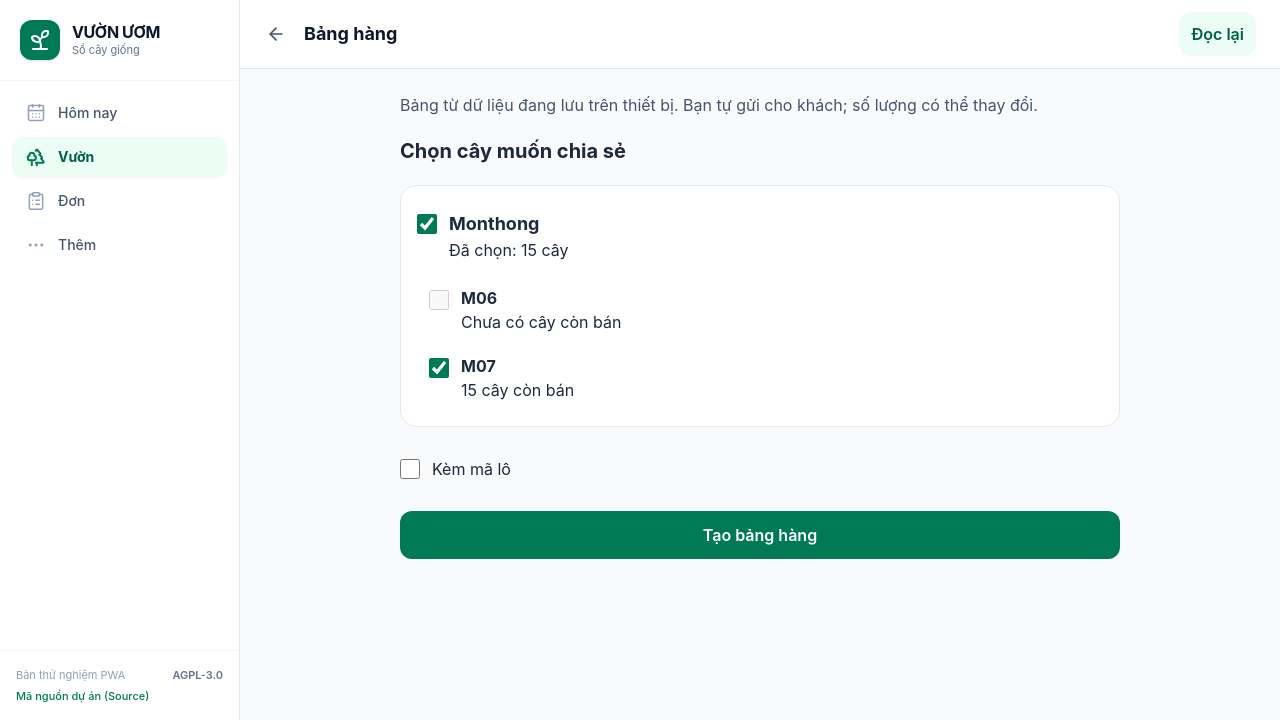
B1 selection and share (real Dexie) › B115 rejects a selected batch that becomes deleted, then reconciles without selecting a replacement
Check: the checkbox named "Chọn lô M07" is shown, box [429,358,449,378]
Click the button "Tạo bảng hàng": point(760, 535) [400,511,1120,559]
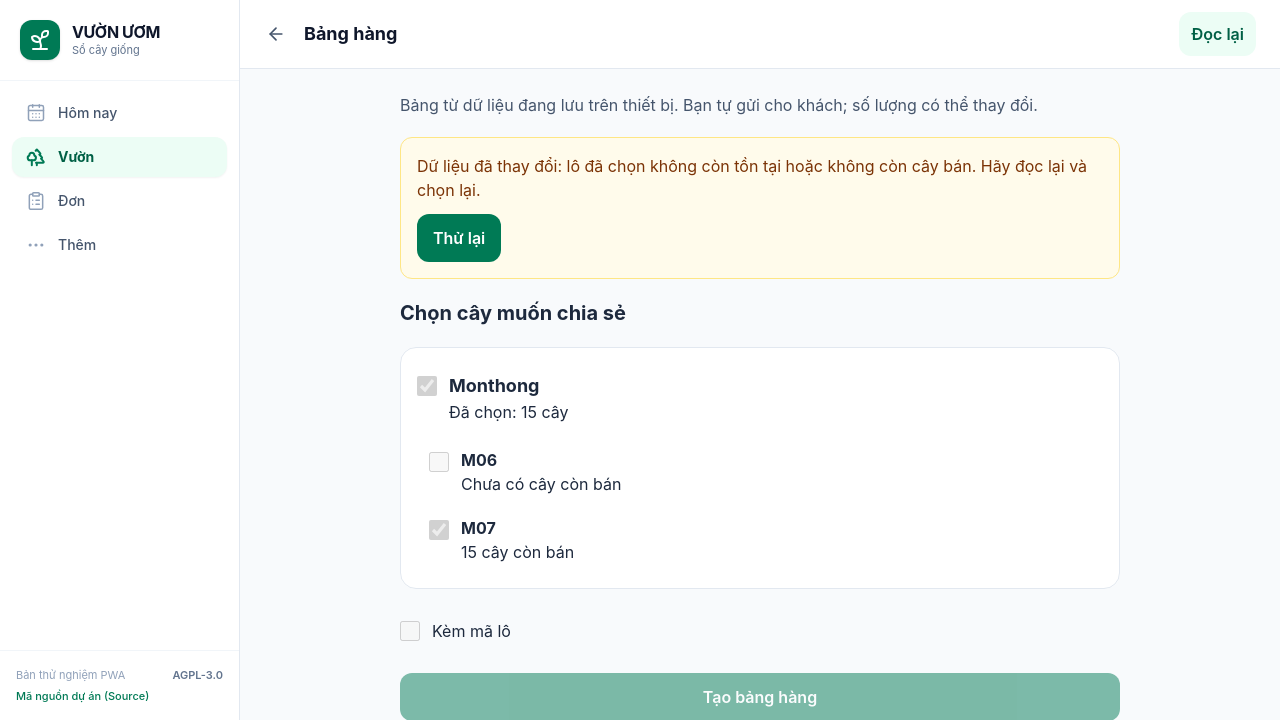
Check: the message shows "Dữ liệu đã thay đổi", box [417,156,1087,200]
Click the button "Thử lại": point(459, 238) [417,214,501,262]
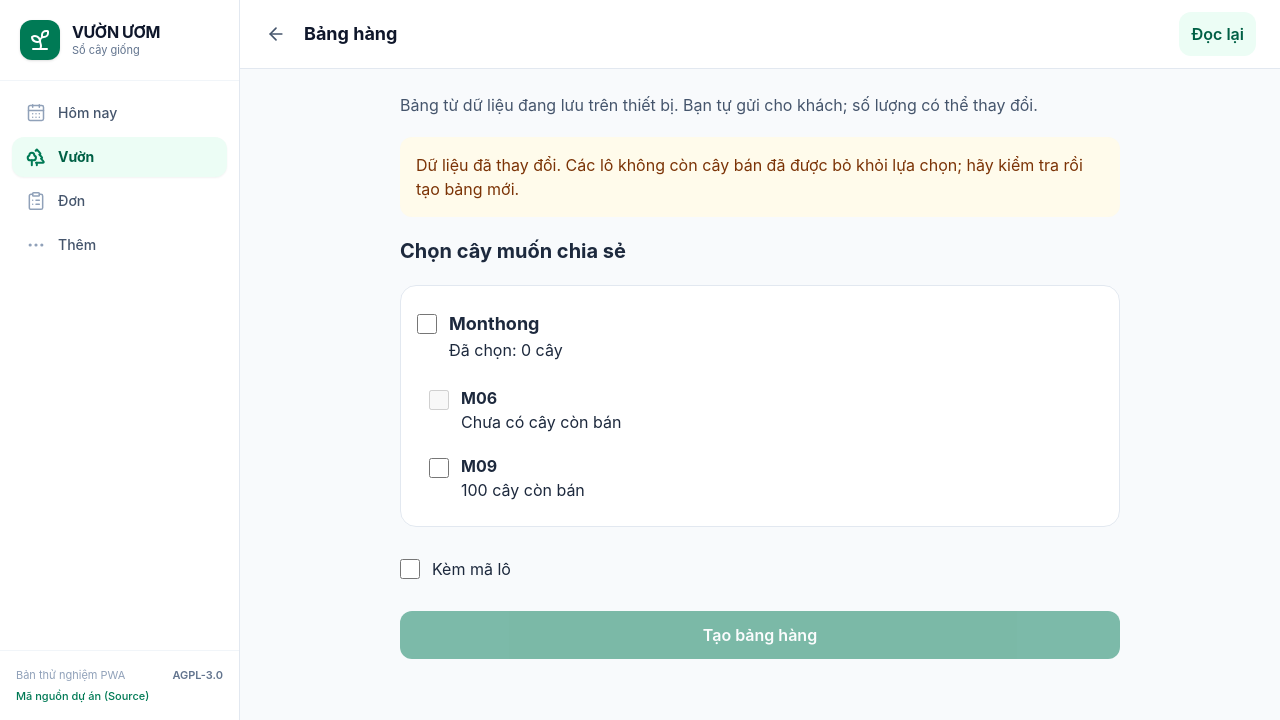
Check: the button "Tạo bảng hàng" is disabled, box [400,611,1120,659]
Check: the checkbox named "Chọn lô M09" is not checked, box [429,458,449,478]
Check: the text "Các lô không còn cây bán" is shown, box [416,155,1083,199]
